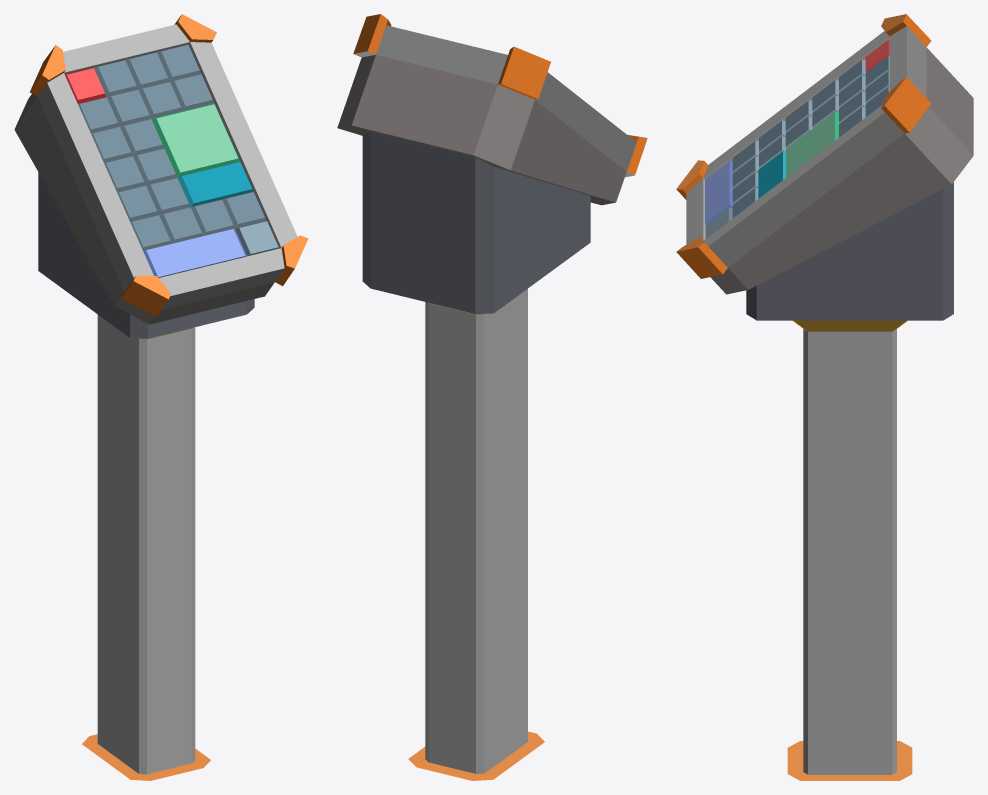
The model's file is theme_switch.glb.
3 views of the same model, side by side, from view 1: azimuth 30°, elevation 25°; view 2: azimuth 150°, elevation 25°; view 3: azimuth 270°, elevation 25° (orthographic). The views are drawn at different scales.
Visible parts, largest first — view 1: THEME SWITCH.004; view 2: THEME SWITCH.004; view 3: THEME SWITCH.004.
Boxes of the visible parts, x1,y1,x2,y2 form: THEME SWITCH.004: (14,14,308,780); THEME SWITCH.004: (337,14,647,780); THEME SWITCH.004: (676,14,973,780).
Size of the model in its own units: 0.4283 by 1.64 by 0.6181.
Materials: 1 (1 with a texture image).
